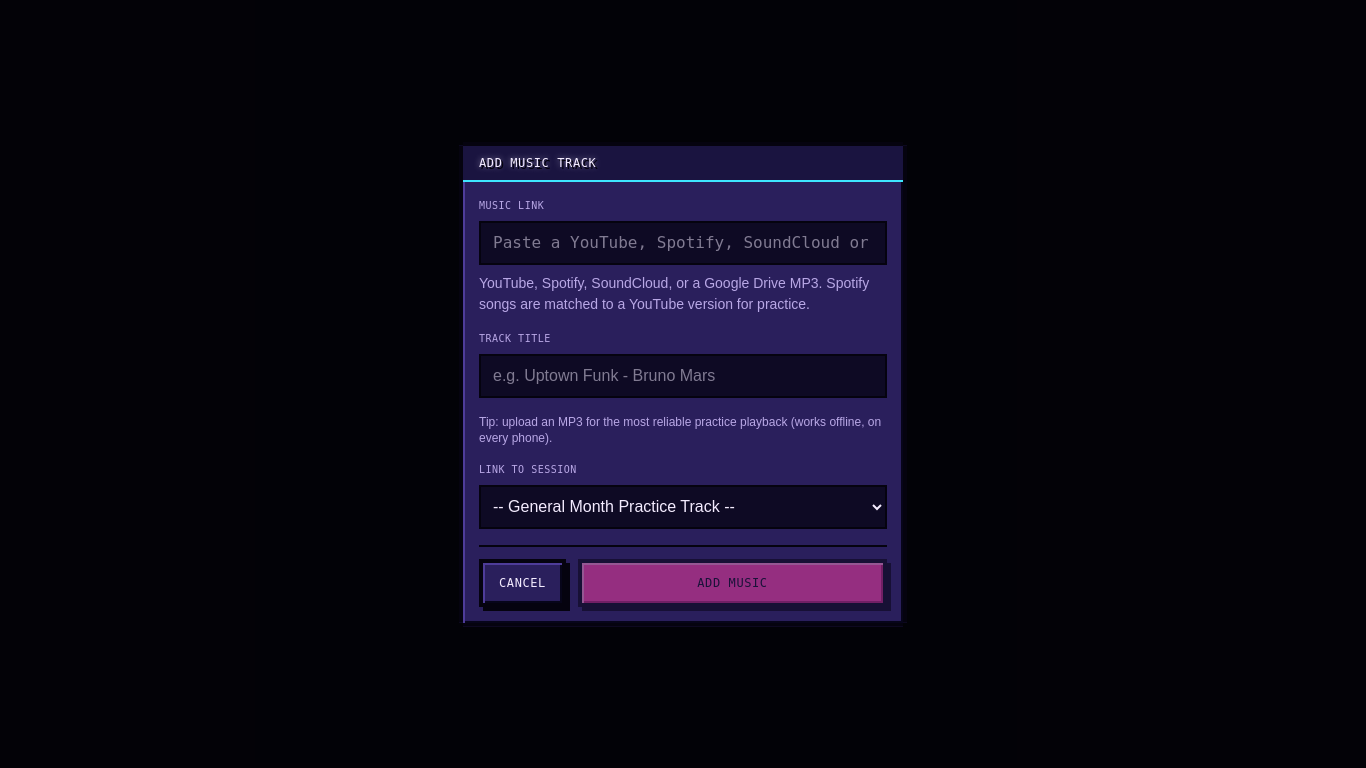
Test case: MusicForm › shows the Spotify song and three matches, and cannot save until one is chosen
Type "https://open.spotify.com/track/4cOdK2wGLETKBW3PvgPWqT" into the field with placeholder "Paste a YouTube, Spotify, SoundCloud or Drive MP3 link".
click(683, 242); type("https://open.spotify.com/track/4cOdK2wGLETKBW3PvgPWqT")  # box [479,220,887,264]
(page scrolled)
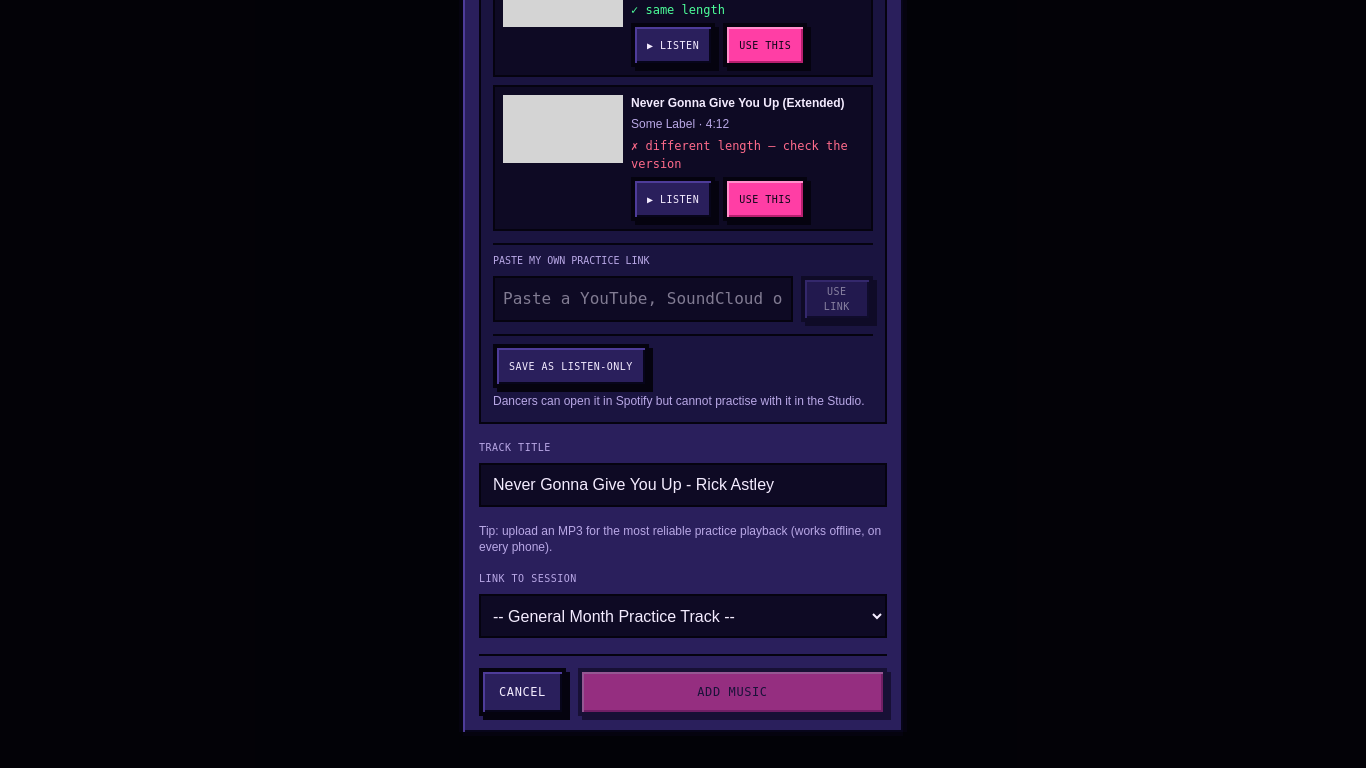
Check: the number of buttons "USE THIS" is 3
Check: the text "✓ same length" is shown 2 times
Check: the text "✗ different length — check the version" is shown, box [631,137,863,173]
